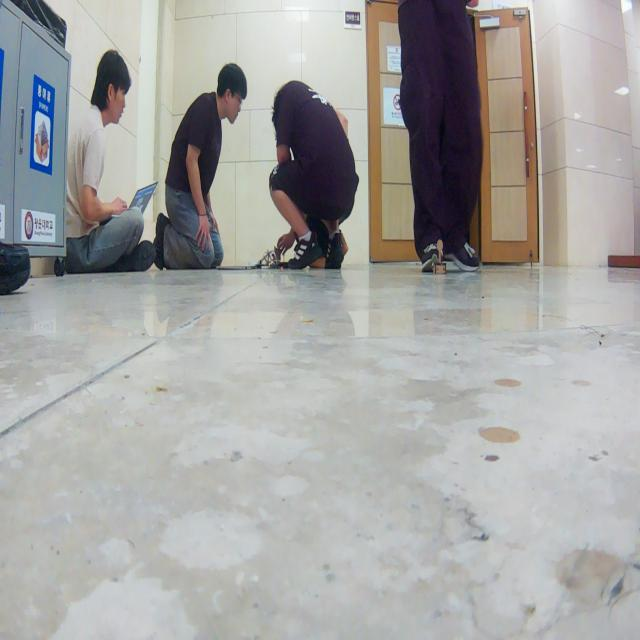target: (432, 238, 448, 276)
